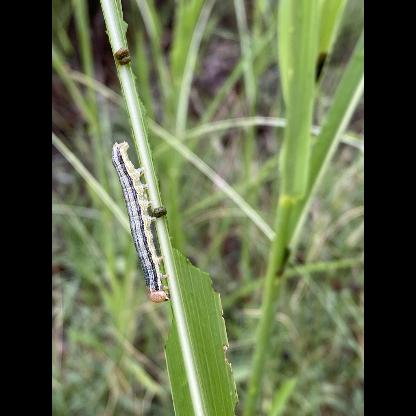Fall Armyworm Larvae: (105, 134, 175, 308)
